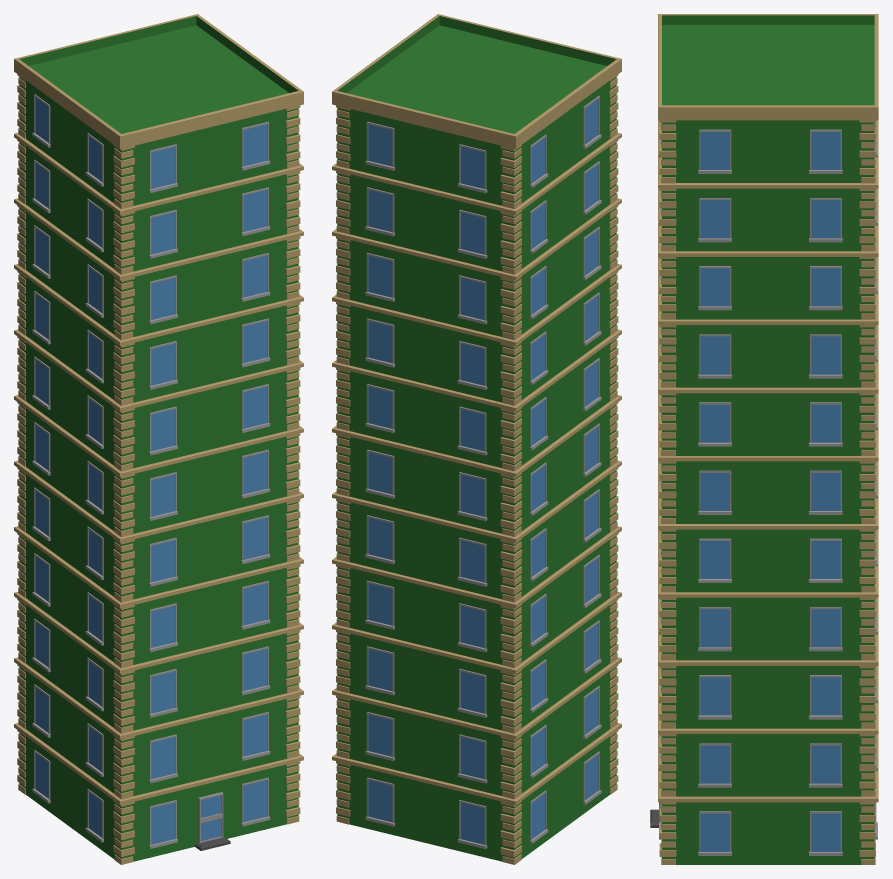
Rendered from GebouwGroenHoogZonderTrap.fbx.
The picture shows the model from 3 angles, left to right: view 1: azimuth 30°, elevation 25°; view 2: azimuth 150°, elevation 25°; view 3: azimuth 270°, elevation 25°; orthographic projection. The views are drawn at different scales.
Parts seen in each view (by area): view 1: gebouwGroenlHoogZonderTrap; view 2: gebouwGroenlHoogZonderTrap; view 3: gebouwGroenlHoogZonderTrap.
Part boxes in pixels (box(x1,y1,x2,y2)): gebouwGroenlHoogZonderTrap: box(14, 14, 303, 864); gebouwGroenlHoogZonderTrap: box(332, 14, 621, 864); gebouwGroenlHoogZonderTrap: box(650, 14, 878, 864).
Size of the model in its own units: 622 by 2364 by 644.
